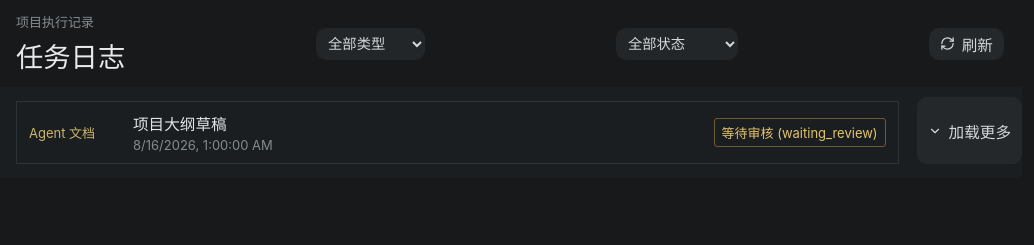
Test: TaskLogView › filters by kind and loads the next cursor page
Check: the button "Agent 文档 项目大纲草稿 8/16/2026, 1:00:00 AM 等待审核 (waiting_review)" is shown, box [16,101,899,164]
Click the button "加载更多" at (969, 130), box [917,97,1022,164]
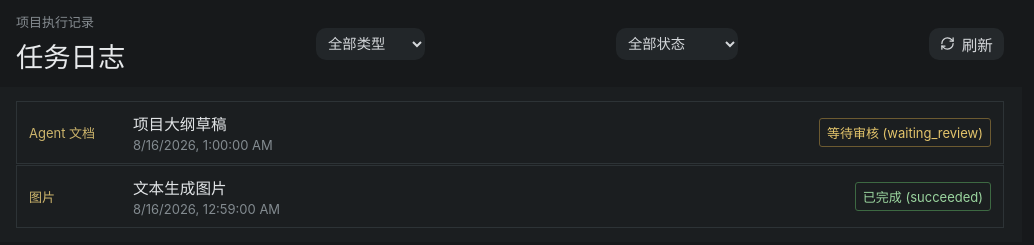
Check: the button "图片 文本生成图片 8/16/2026, 12:59:00 AM 已完成 (succeeded)" is shown, box [16,165,1004,228]
Select "图片" in the dropdown named "任务类型筛选" at (370, 44), box [316,28,425,60]
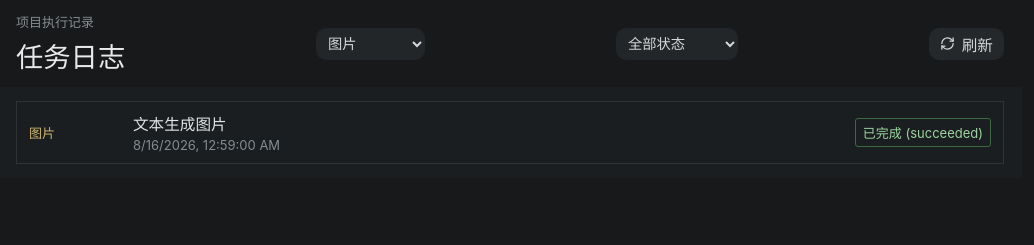
Check: the button "项目大纲草稿" is gone
